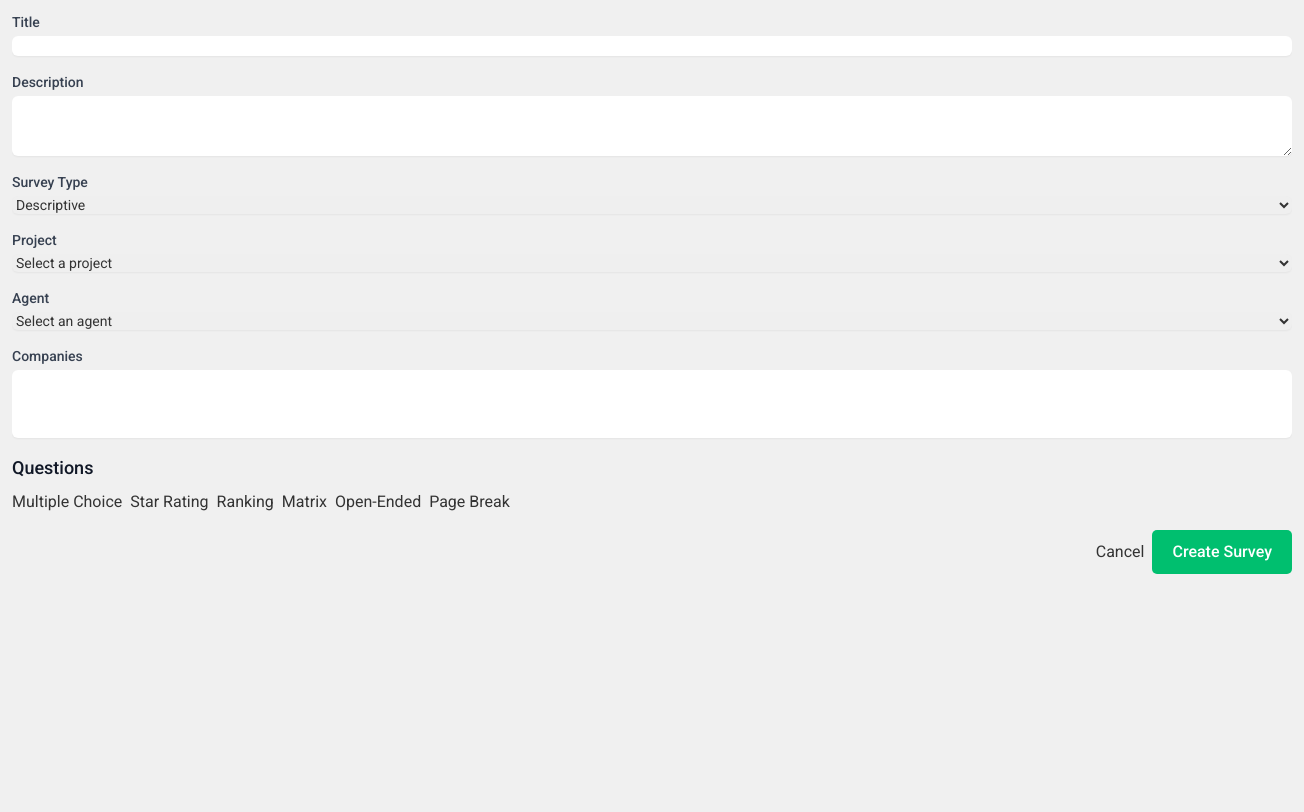
Test: adds a ranking question
Click the button "Ranking" at (245, 502), box [217, 490, 274, 514]
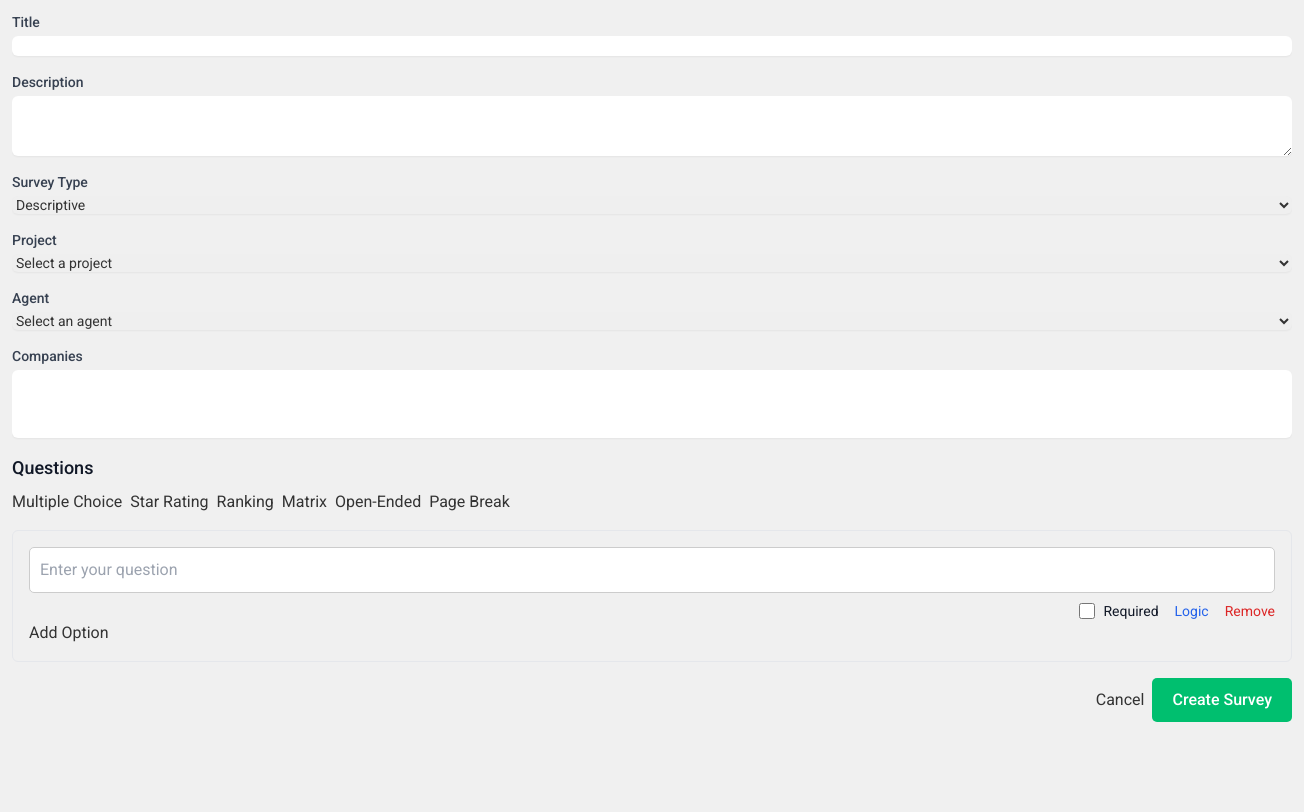
Expected: the field with placeholder "Enter your question" is shown, [29, 547, 1275, 593]
